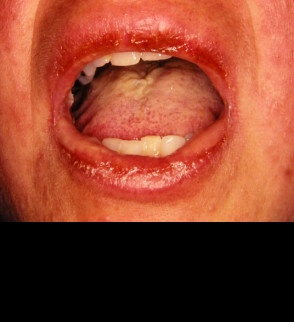SJS-TEN: (49, 14, 246, 113), (50, 125, 230, 197)
